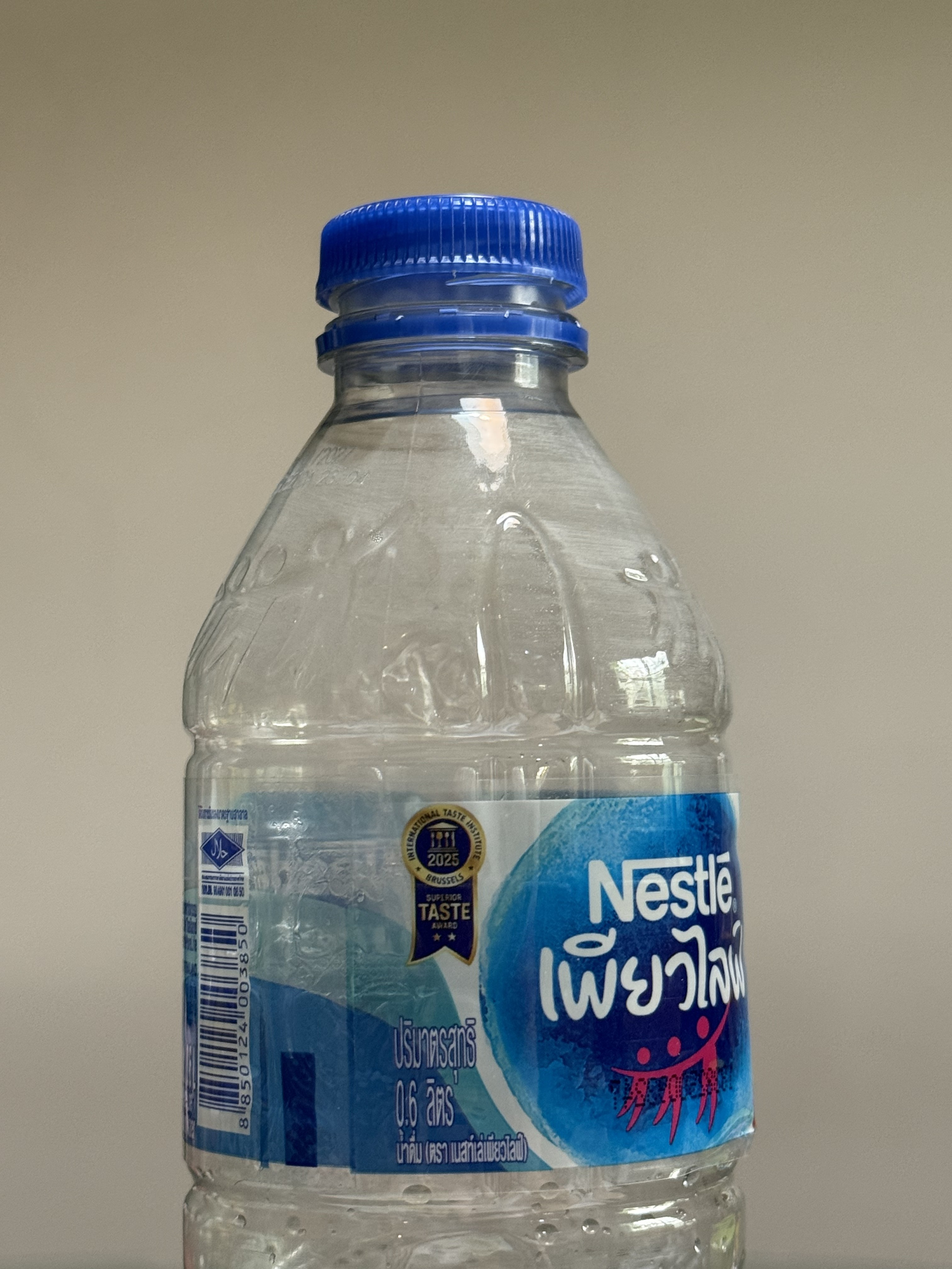half_cap: (306, 187, 595, 371)
